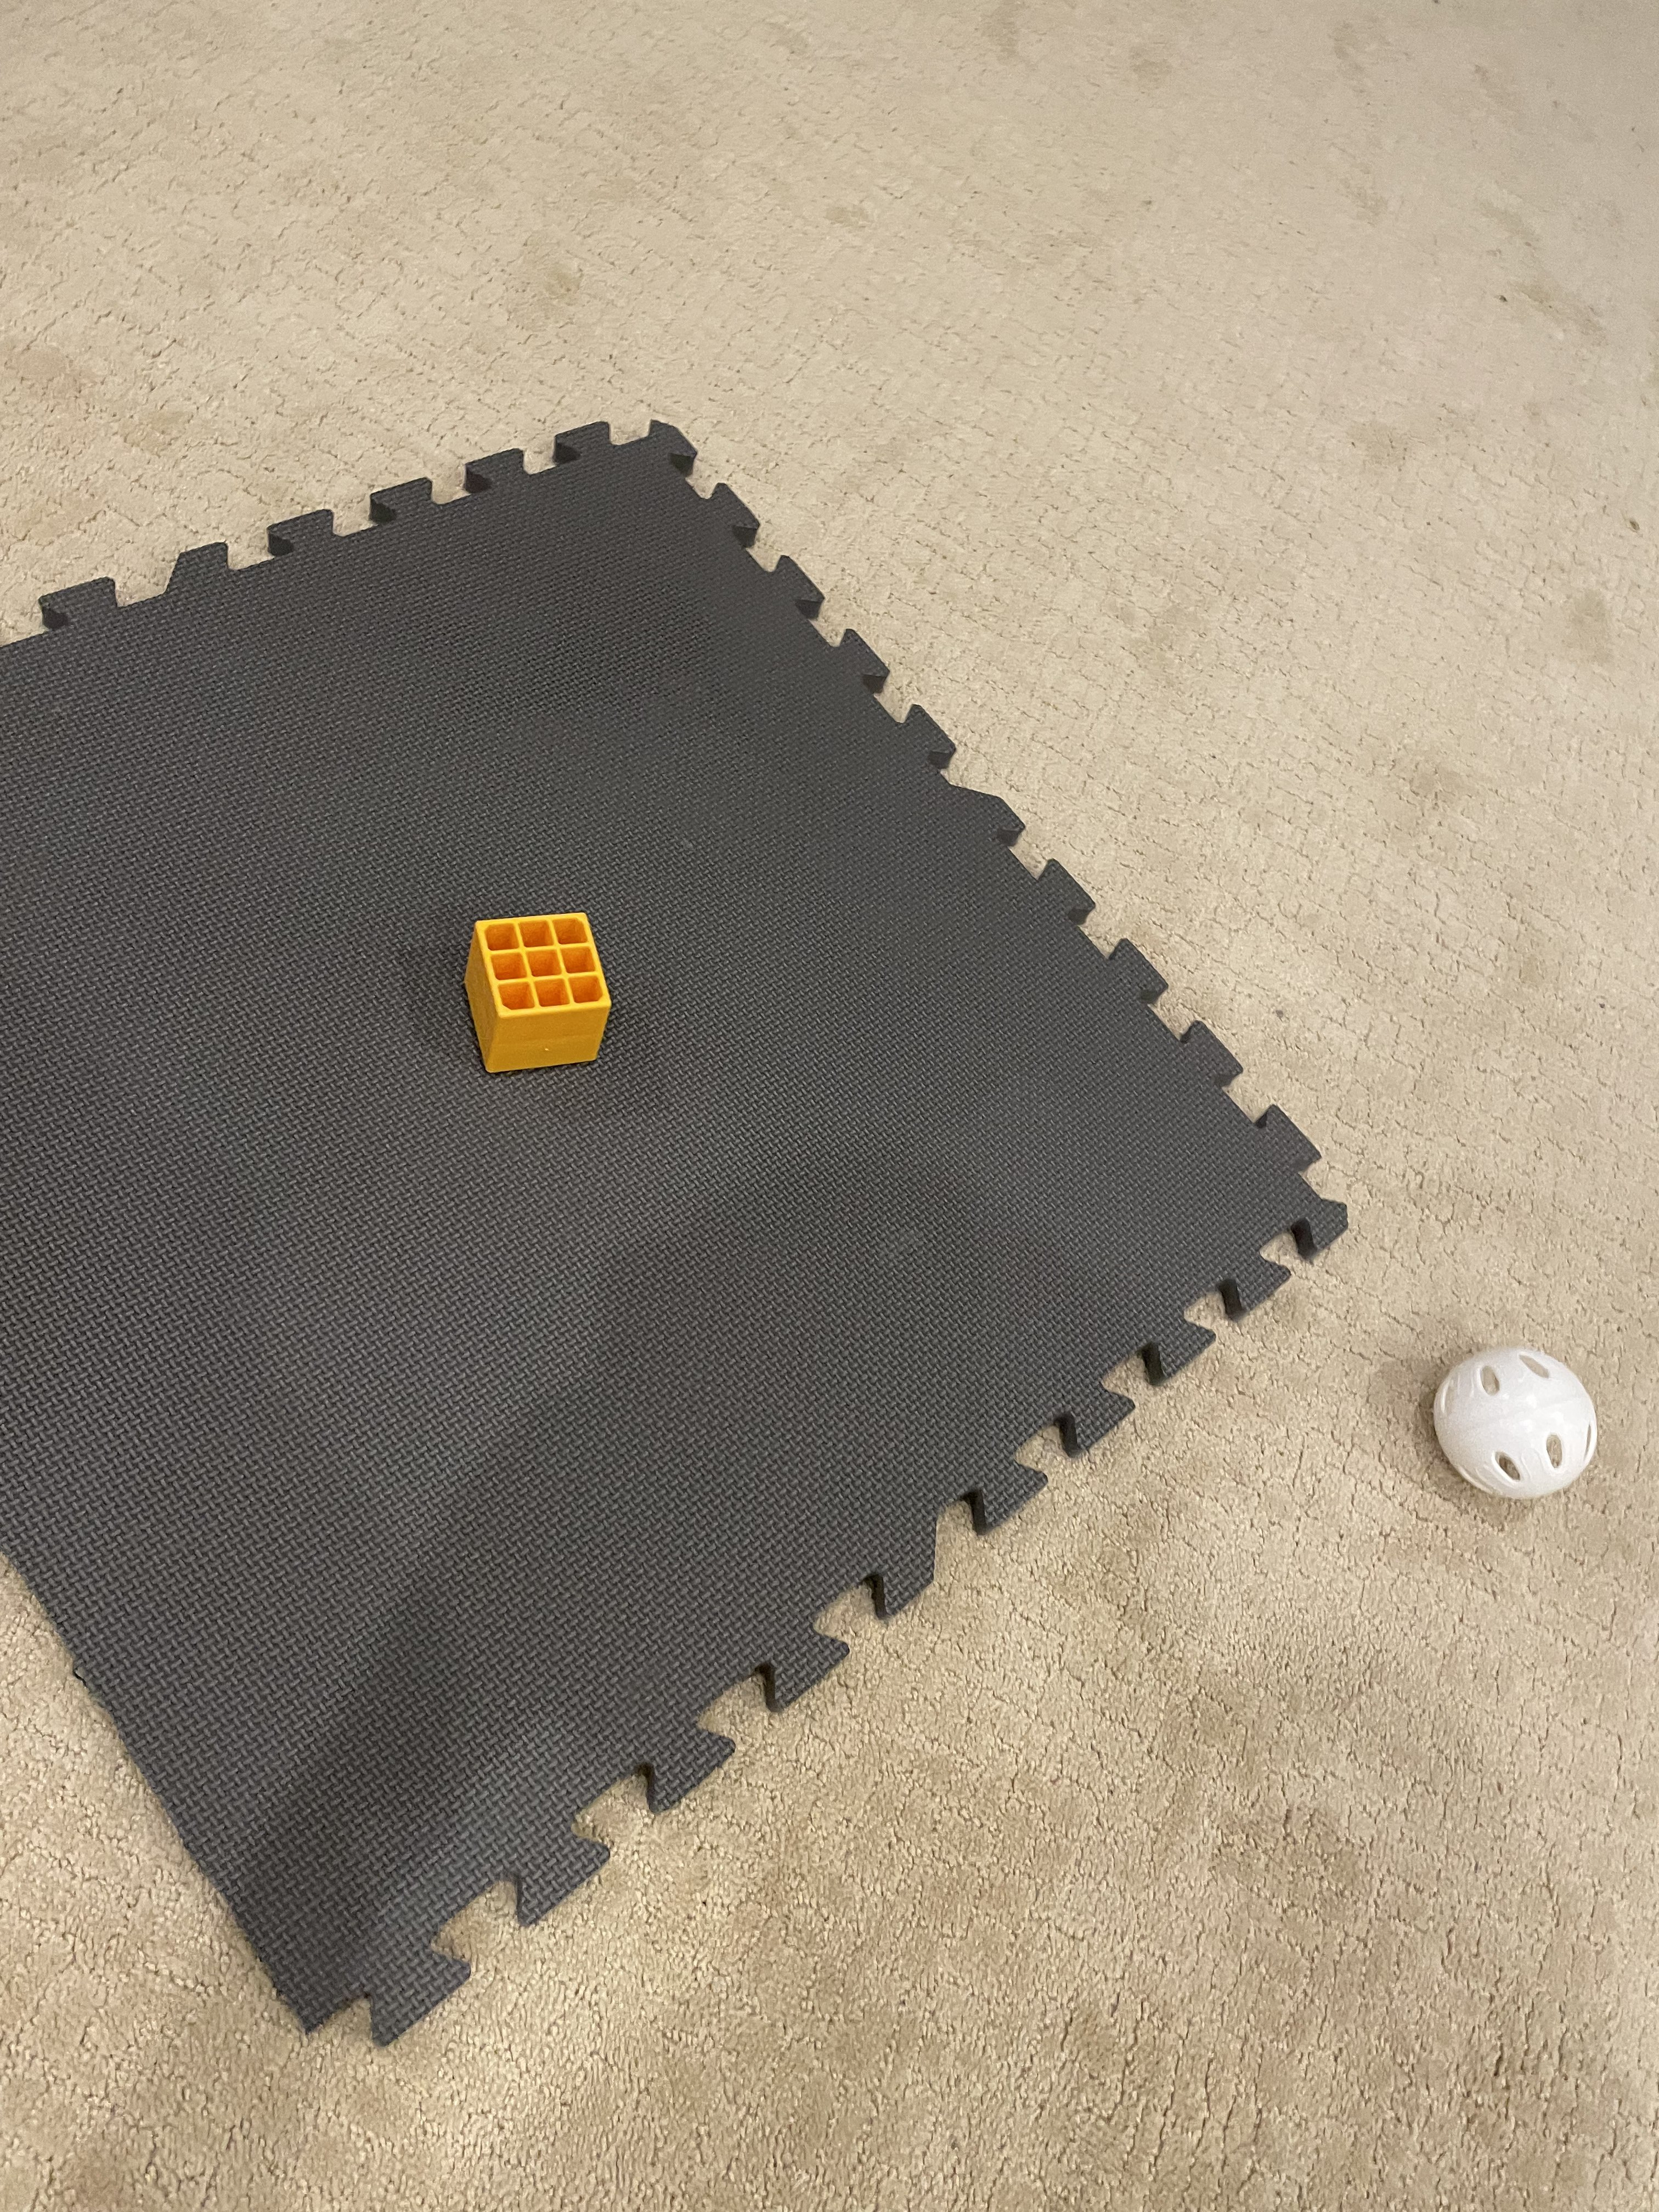cube: (448, 874, 640, 1108)
